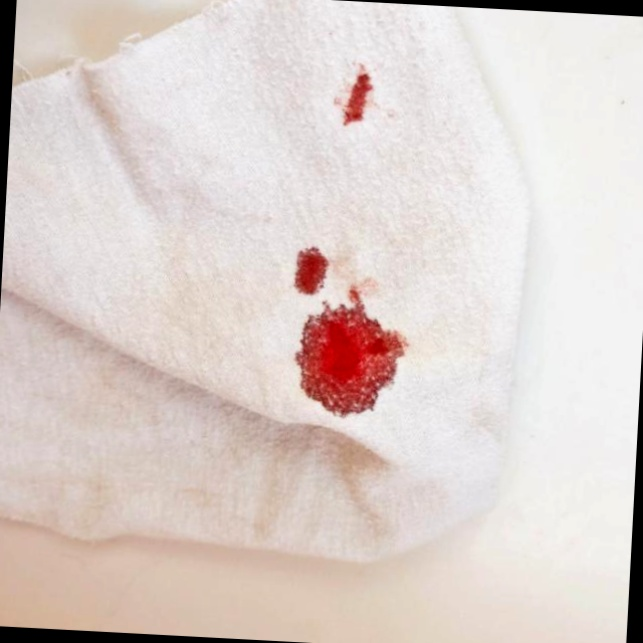blood: (287, 244, 416, 424), (337, 68, 380, 130)
